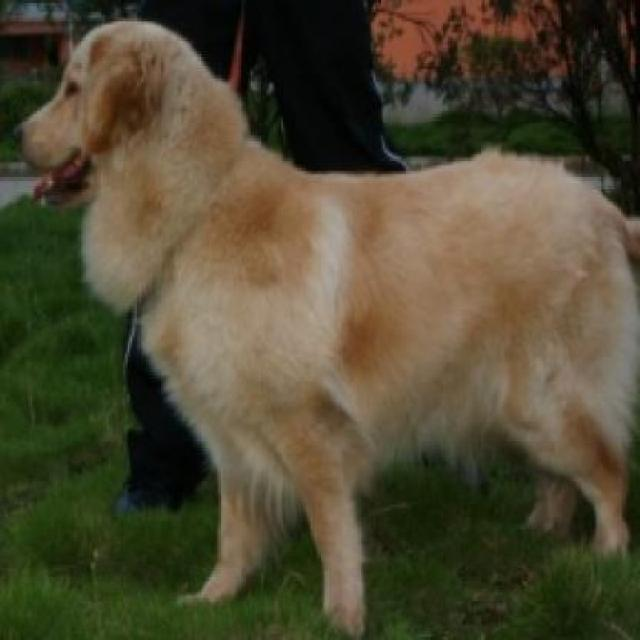Dog: (11, 7, 638, 638)
